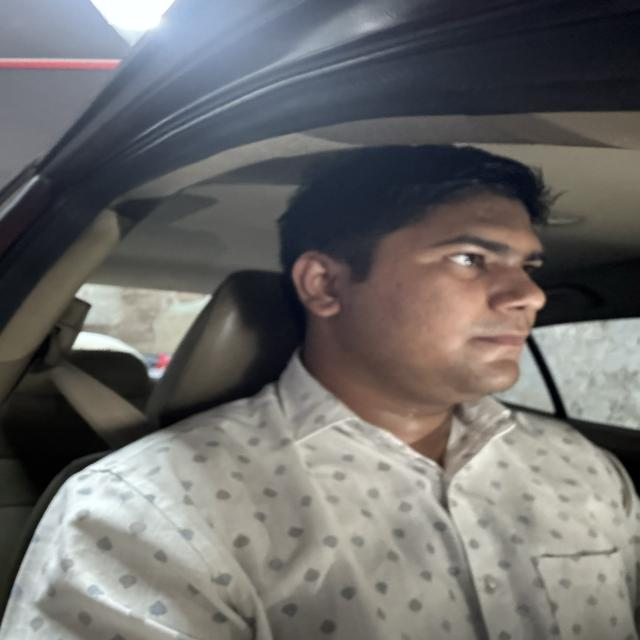no-seatbelt: (163, 398, 611, 640)
